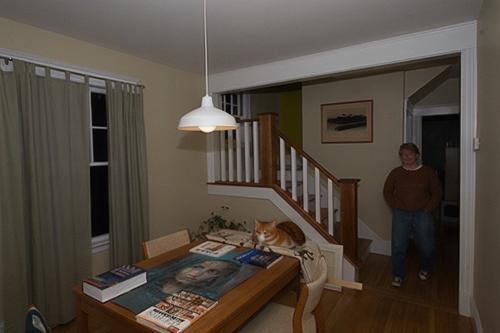cat: (252, 219, 305, 244)
chair: (245, 256, 342, 333), (135, 224, 196, 259)
person: (384, 143, 440, 291)
person/foot: (391, 274, 408, 287), (418, 270, 433, 281)
person/head: (398, 143, 420, 165)
pottedplant: (191, 202, 251, 243)
